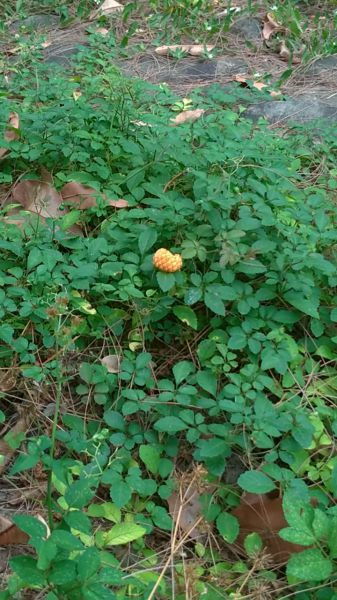eggs: (149, 246, 185, 279)
